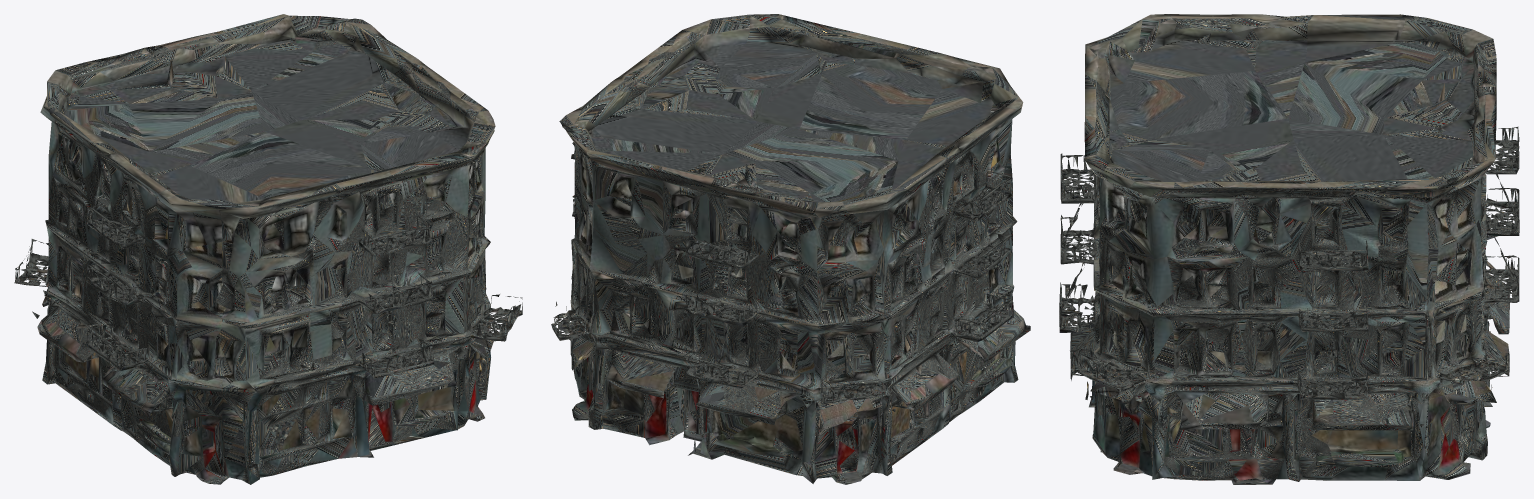
File: teleoperator_dispatchBuildingA.glb
3 views of the same model, side by side, from view 1: azimuth 30°, elevation 25°; view 2: azimuth 150°, elevation 25°; view 3: azimuth 270°, elevation 25° (orthographic). The views are drawn at different scales.
Bounding box in the file's own units: 1.89 × 1.4 × 1.9.
1 material, 1 textured.
